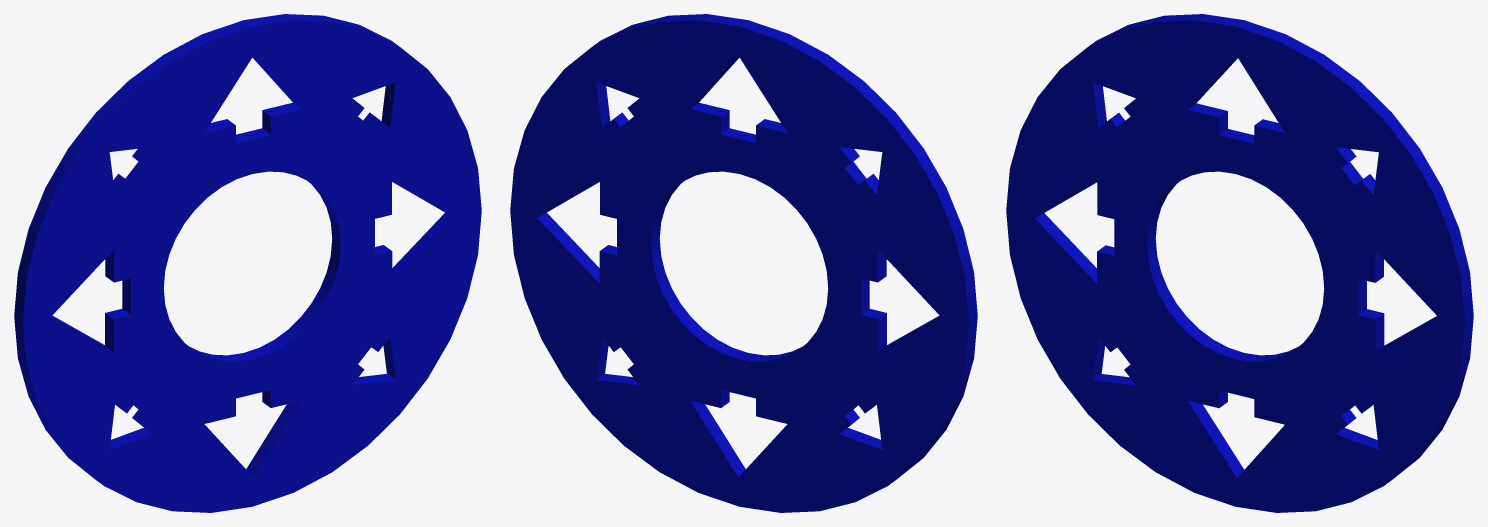
The model's file is Joystick_3.FBX.
3 renders of one model, left to right at view 1: azimuth 30°, elevation 25°; view 2: azimuth 150°, elevation 25°; view 3: azimuth 330°, elevation 25°, orthographic.
Parts seen in each view (by area): view 1: Joystick_3; view 2: Joystick_3; view 3: Joystick_3.
Boxes of the visible parts, x1,y1,x2,y2 form: Joystick_3: [14, 14, 481, 512]; Joystick_3: [510, 14, 977, 512]; Joystick_3: [1006, 14, 1473, 512].
Size of the model in its own units: 91.74 by 91.74 by 3.
